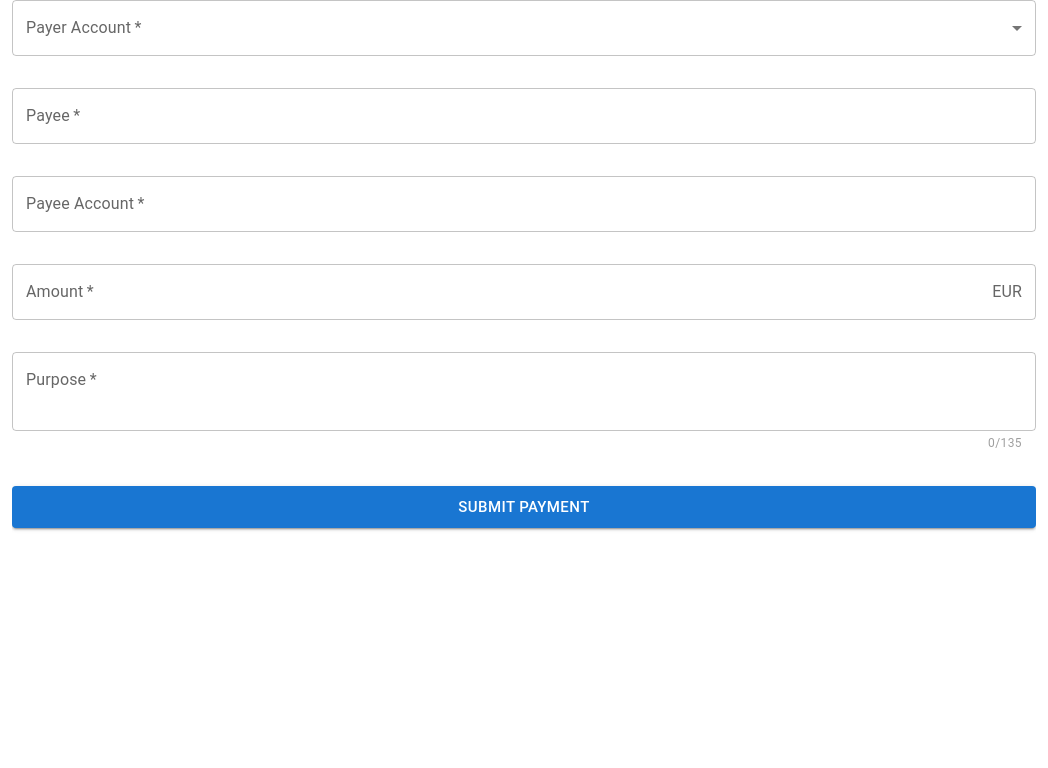
Test case: PaymentForm › displays required-field feedback when an empty form is submitted
Click the button "Submit payment" at (524,507), box x1=12 y1=486 x2=1036 y2=528
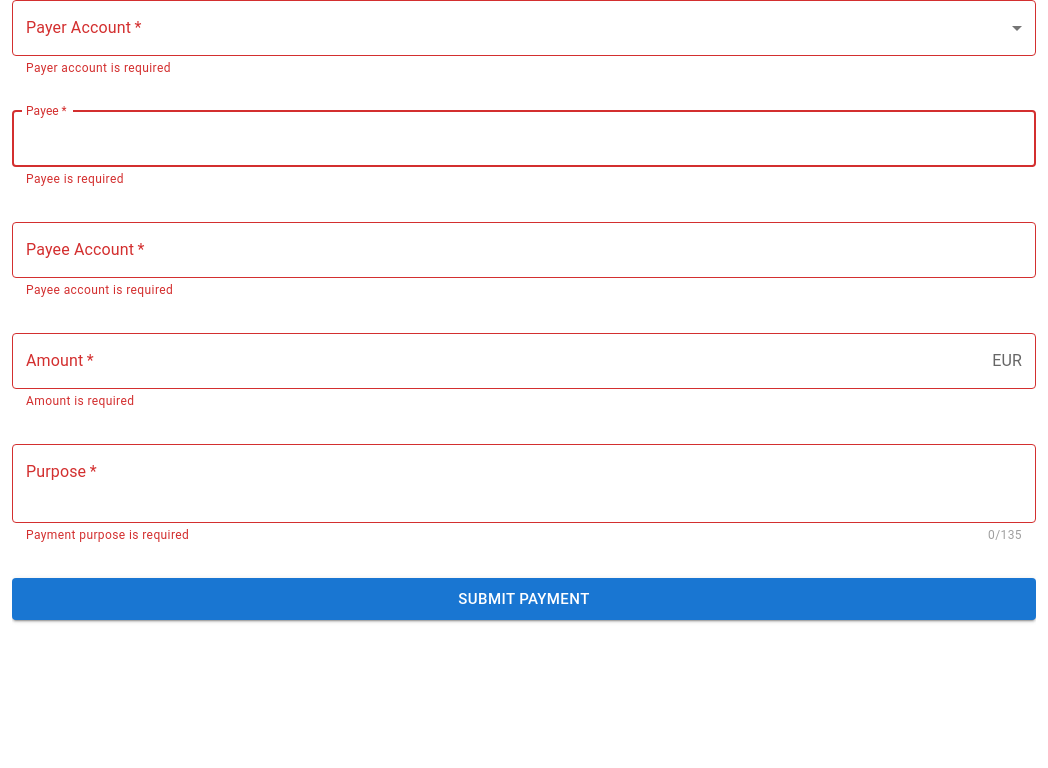
expect the text "Payer account is required" is shown: met, box x1=26 y1=61 x2=171 y2=75
expect the text "Payee is required" is shown: met, box x1=26 y1=172 x2=124 y2=186
expect the text "Payee account is required" is shown: met, box x1=26 y1=283 x2=173 y2=297
